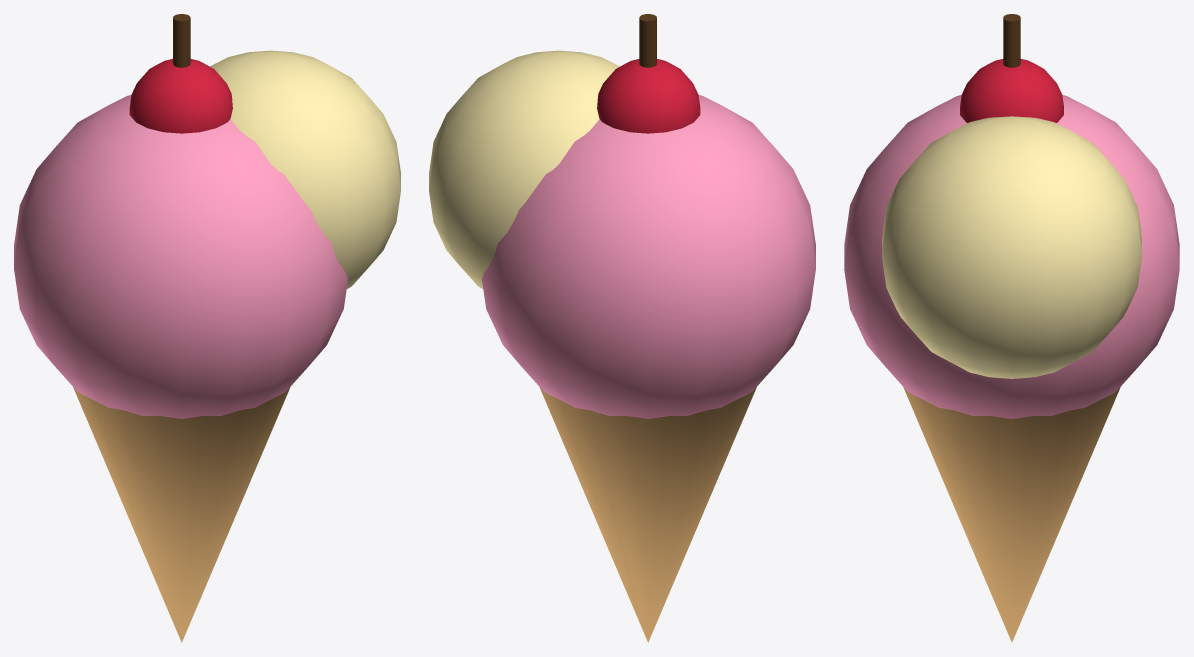
Rendered from item_icecream.fbx.
The picture shows the model from 3 angles, left to right: view 1: azimuth 30°, elevation 25°; view 2: azimuth 150°, elevation 25°; view 3: azimuth 270°, elevation 25°; orthographic projection.
Parts seen in each view (by area): view 1: M__item_icecream; view 2: M__item_icecream; view 3: M__item_icecream.
Boxes of the visible parts, x1,y1,x2,y2 form: M__item_icecream: (14,14,400,642); M__item_icecream: (429,14,815,642); M__item_icecream: (844,14,1179,642).
Bounding box in the file's own units: 0.138 × 0.235 × 0.1142.
